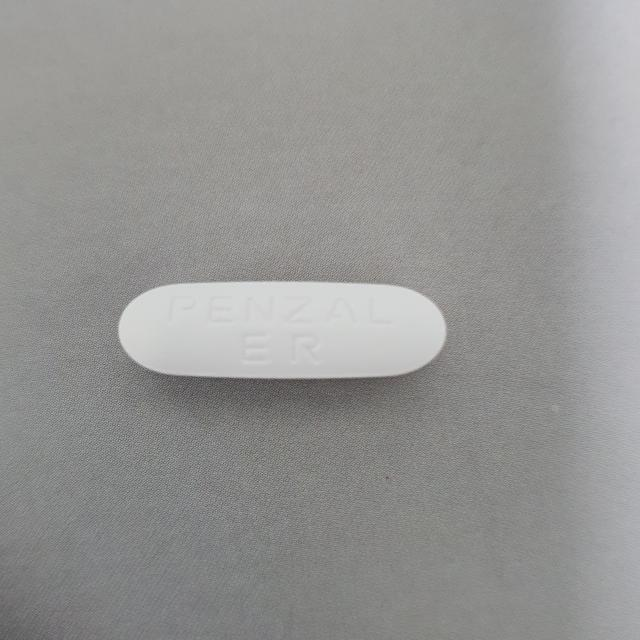pill: (110, 270, 457, 392)
